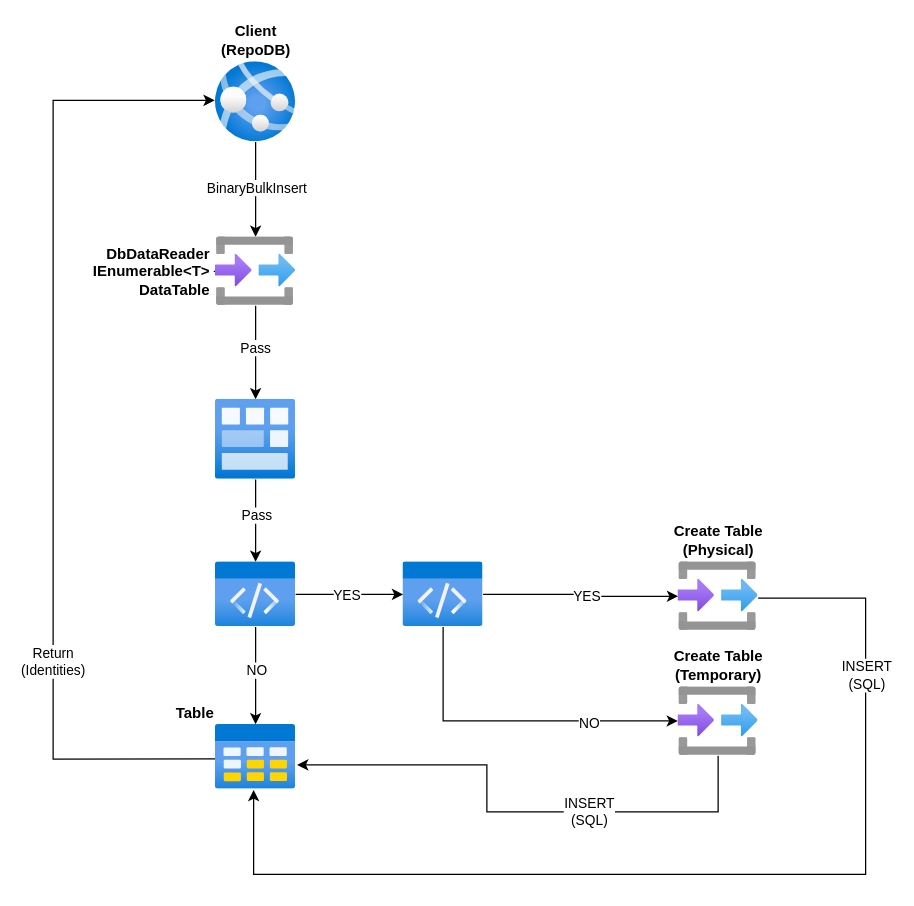
Image size: 914x906. Some labels were removed from this diagram. Here are the shapes that lost their labels. From the top down, the centre of each, then its label:
[255,439]: BinaryImport
[255,593]: IdentityBehavior Return Identity?
[442,593]: PseudoTableType Physical?
